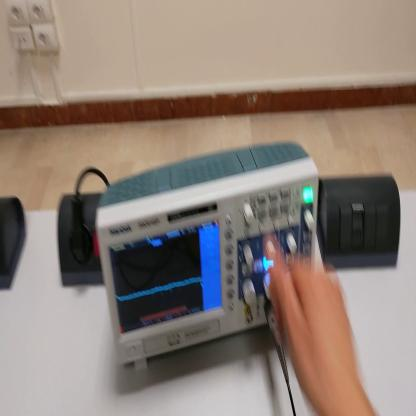hand: (268, 244, 362, 405)
oscilloscope: (92, 135, 318, 370)
socket: (58, 194, 106, 287), (2, 195, 28, 294)
